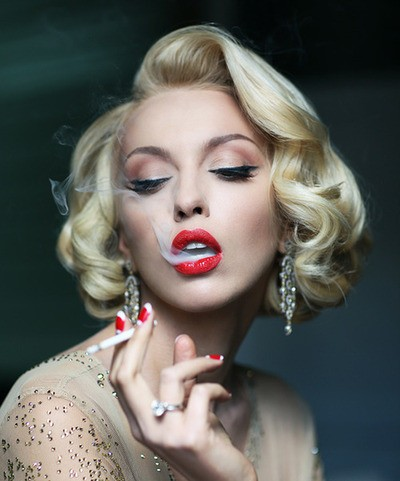cigarette: (74, 329, 162, 356)
